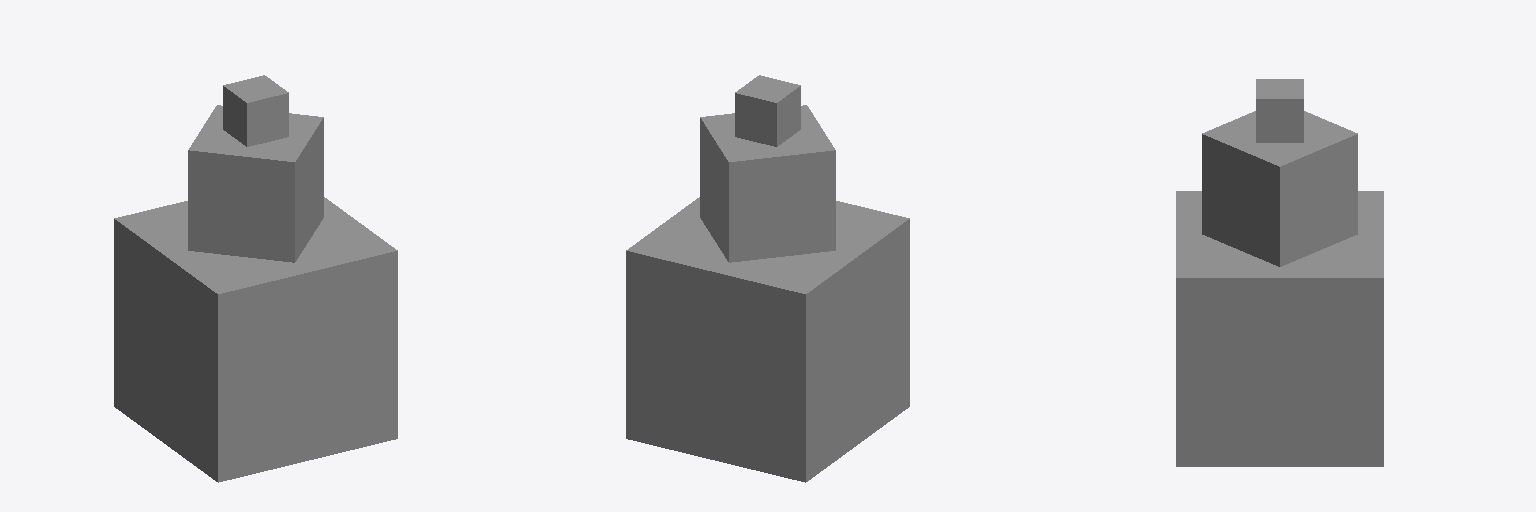
Rendered from BoxStack.obj.
3 renders of one model, left to right at view 1: azimuth 30°, elevation 25°; view 2: azimuth 150°, elevation 25°; view 3: azimuth 270°, elevation 25°, orthographic.
Parts seen in each view (by area): view 1: mBot_cBot, mMid_cMid, mTop_cTop; view 2: mBot_cBot, mMid_cMid, mTop_cTop; view 3: mBot_cBot, mMid_cMid, mTop_cTop.
Boxes of the visible parts, box(x1,y1,x2,y2) form: mBot_cBot: box(114, 197, 397, 482); mMid_cMid: box(188, 105, 323, 262); mTop_cTop: box(223, 75, 288, 146); mBot_cBot: box(626, 197, 909, 482); mMid_cMid: box(700, 105, 835, 262); mTop_cTop: box(735, 75, 800, 146); mBot_cBot: box(1176, 191, 1383, 466); mMid_cMid: box(1202, 111, 1357, 266); mTop_cTop: box(1256, 79, 1303, 142).
Bounding box in the file's own units: 2 × 3.54 × 2.